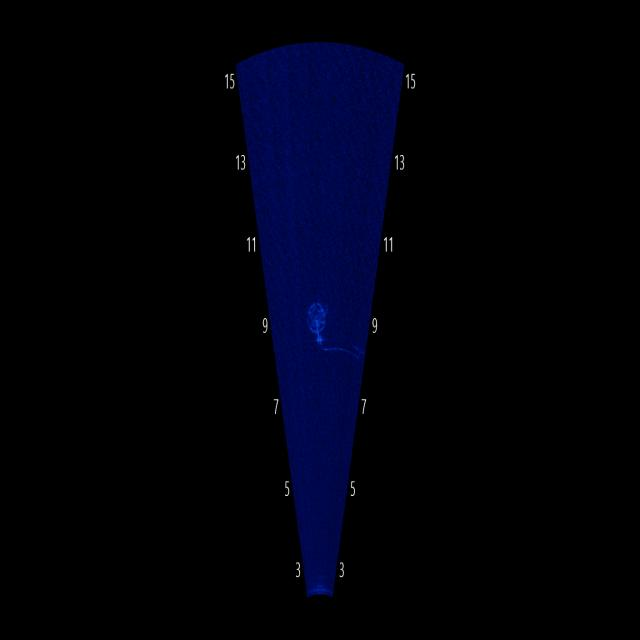circle: (290, 274, 338, 368)
